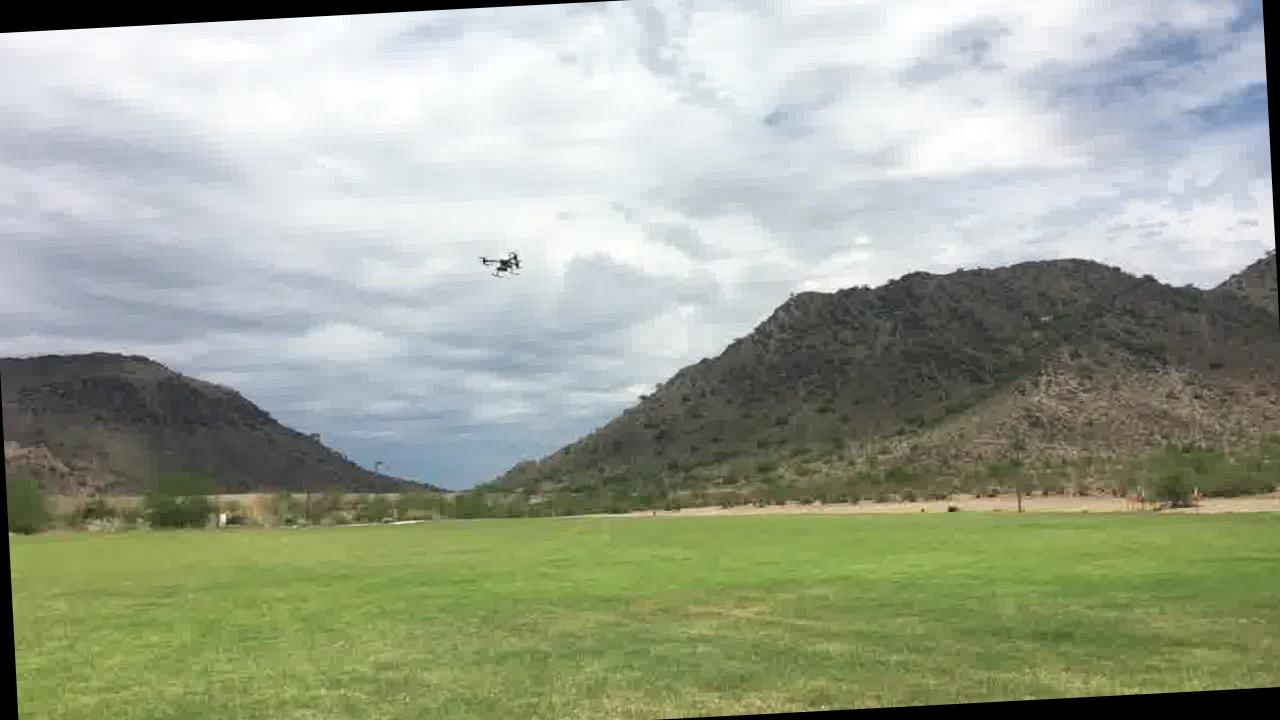drone: (474, 244, 522, 282)
